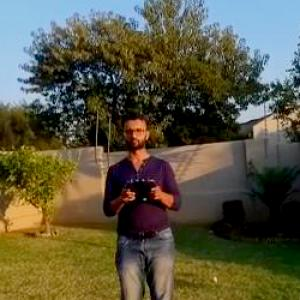follow: (98, 104, 191, 299)
